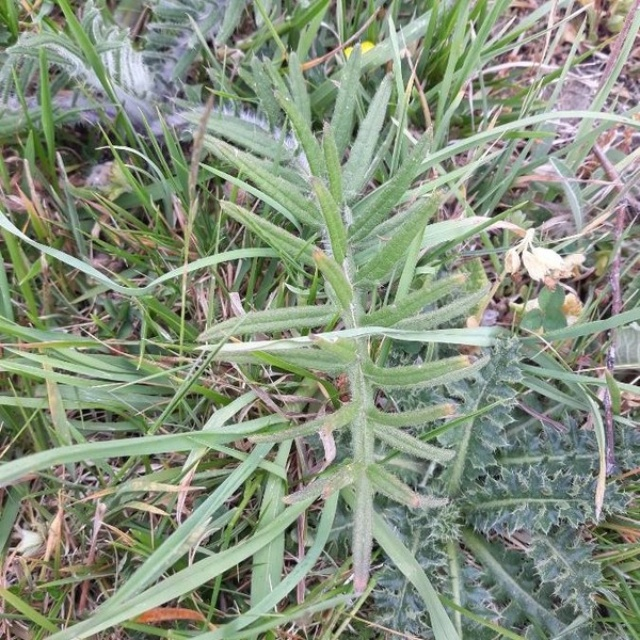obstacle: (181, 59, 475, 587), (76, 97, 271, 602)
